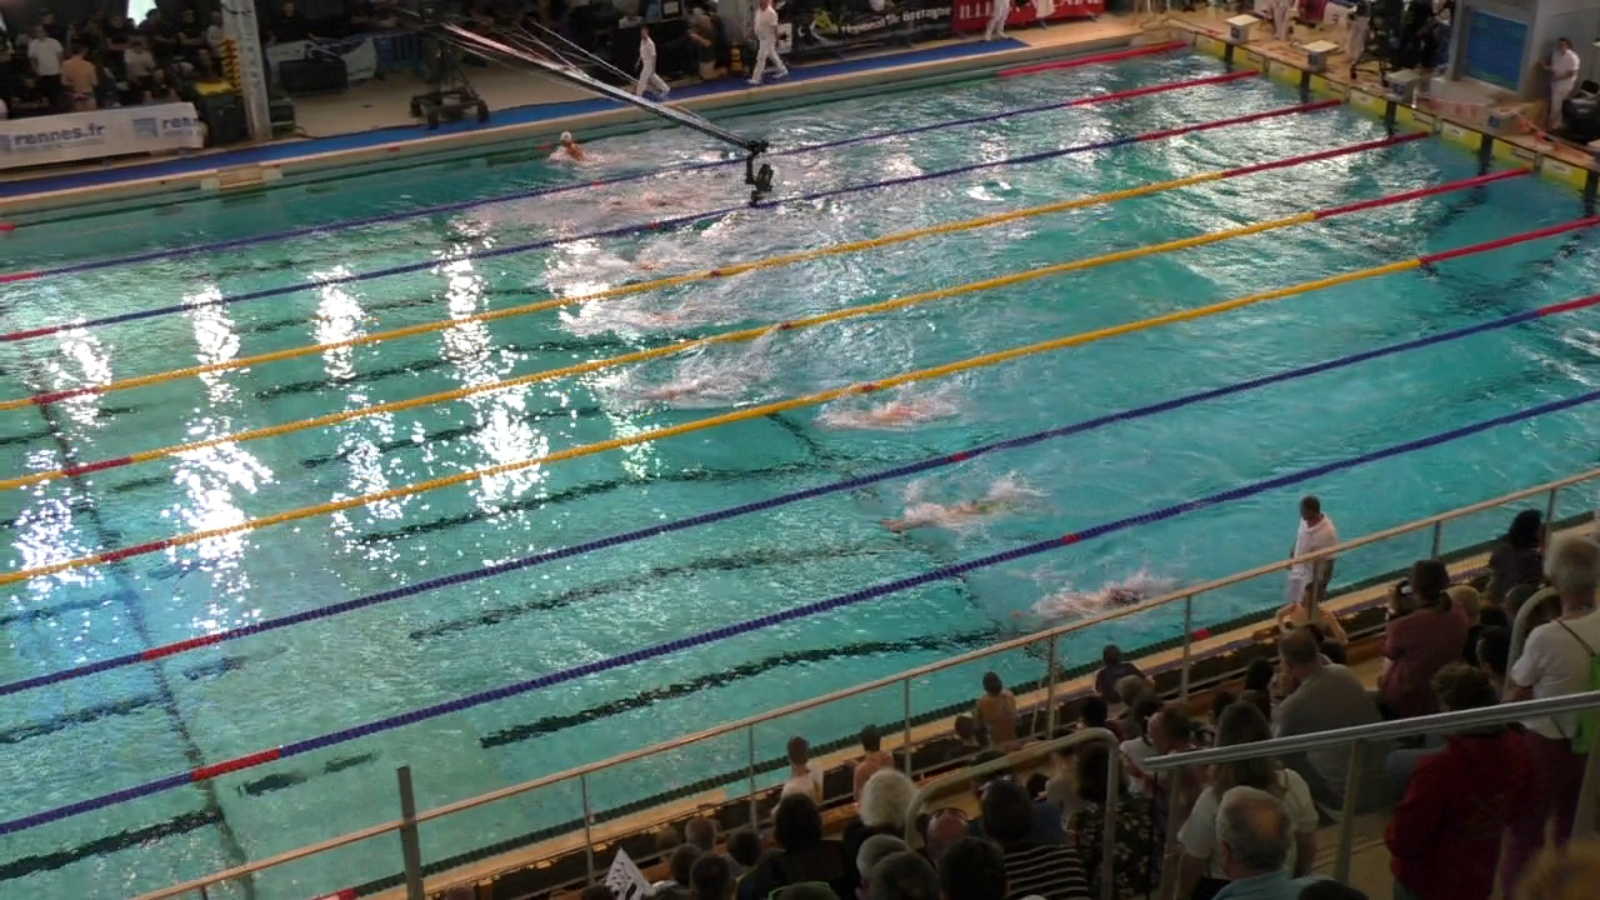swimmerwdd: (887, 477, 1049, 538), (1018, 579, 1199, 631), (819, 389, 984, 436), (549, 129, 635, 171), (571, 191, 735, 211), (591, 385, 763, 403), (619, 299, 705, 331), (613, 249, 691, 279)
